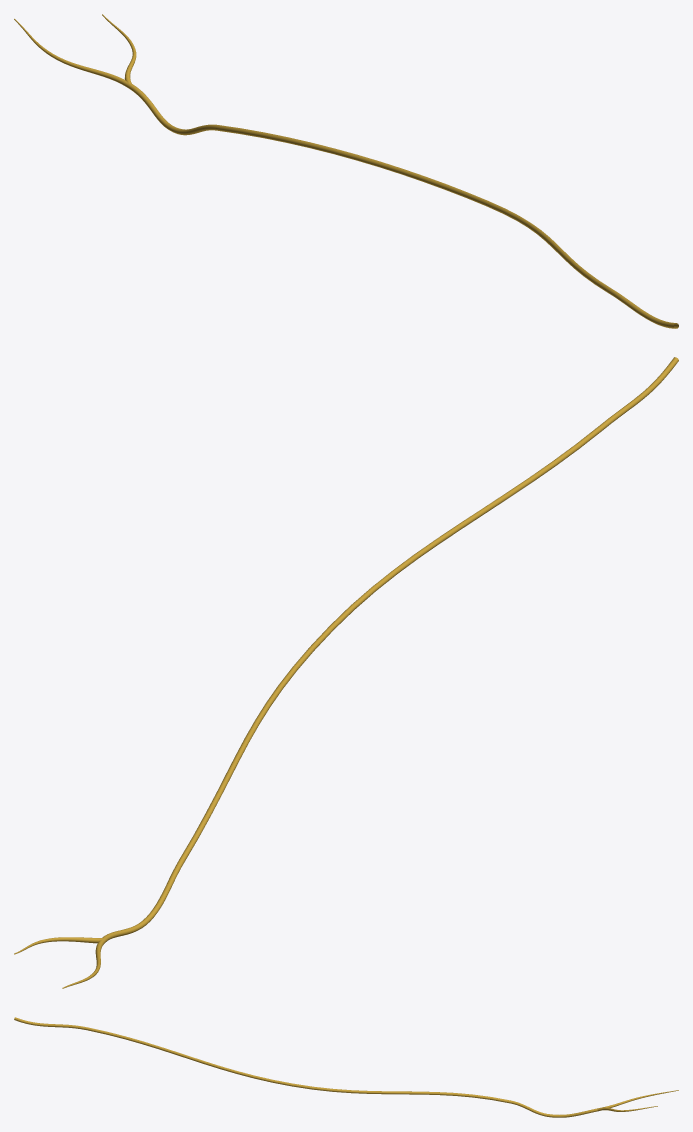
3 renders of one model, top to bottom at view 1: azimuth 30°, elevation 25°; view 2: azimuth 150°, elevation 25°; view 3: azimuth 270°, elevation 25°, orthographic. The views are drawn at different scales.
Visible parts, largest first — view 1: 左侧生殖股神经股支; view 2: 左侧生殖股神经股支; view 3: 左侧生殖股神经股支.
Part boxes in pixels (box(x1,y1,x2,y2)): 左侧生殖股神经股支: box(14, 14, 678, 328); 左侧生殖股神经股支: box(14, 357, 678, 988); 左侧生殖股神经股支: box(14, 1017, 678, 1117).
Bounding box in the file's own units: 0.0312 × 0.052 × 0.32.
